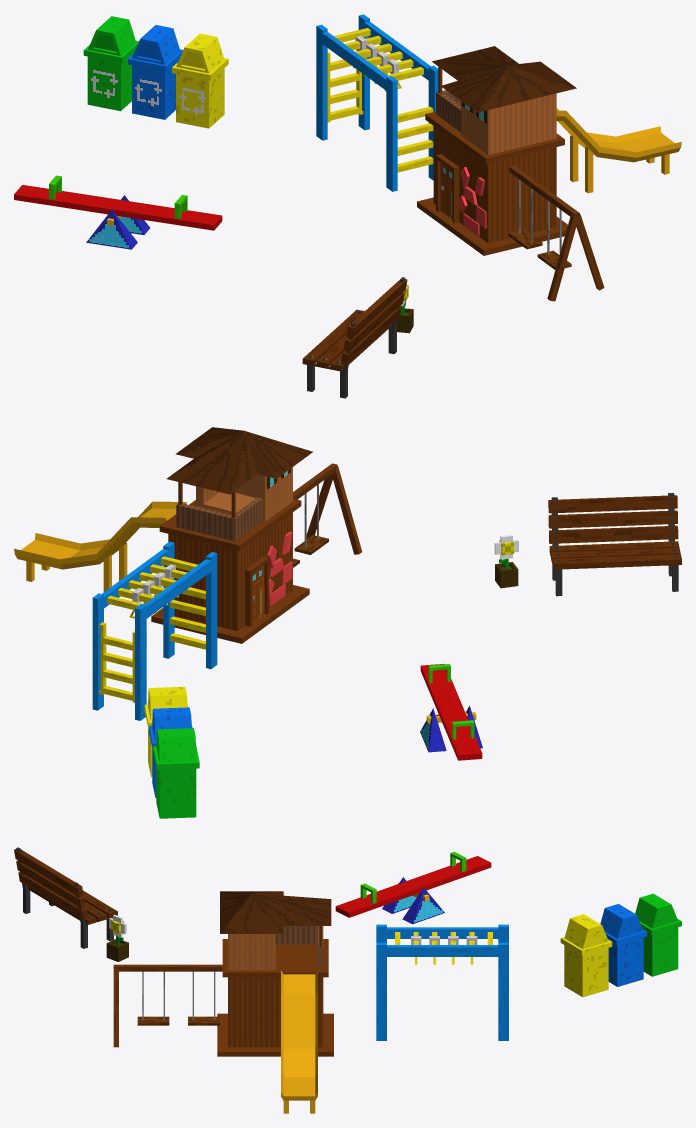
The picture shows the model from 3 angles, top to bottom: view 1: azimuth 30°, elevation 25°; view 2: azimuth 150°, elevation 25°; view 3: azimuth 270°, elevation 25°; orthographic projection. The views are drawn at different scales.
Visible parts, largest first — view 1: cuboid (×27), pyramid (×3); view 2: cuboid (×26), pyramid (×3); view 3: cuboid (×23), pyramid (×3).
Boxes of the visible parts, x1,y1,x2,y2 form: cuboid (×27): (14, 14, 681, 365); pyramid (×3): (86, 46, 576, 249); cuboid (×26): (14, 466, 681, 818); pyramid (×3): (167, 427, 446, 752); cuboid (×23): (14, 849, 678, 1100); pyramid (×3): (220, 887, 444, 933).
Bounding box in the file's own units: 13.16 × 3.86 × 15.74.
Materials: 9 (9 with a texture image).
